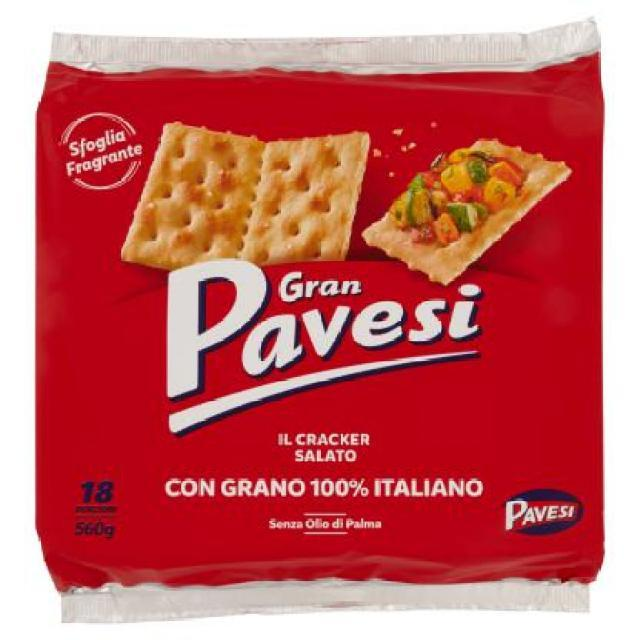Cracker: (31, 28, 610, 606)
